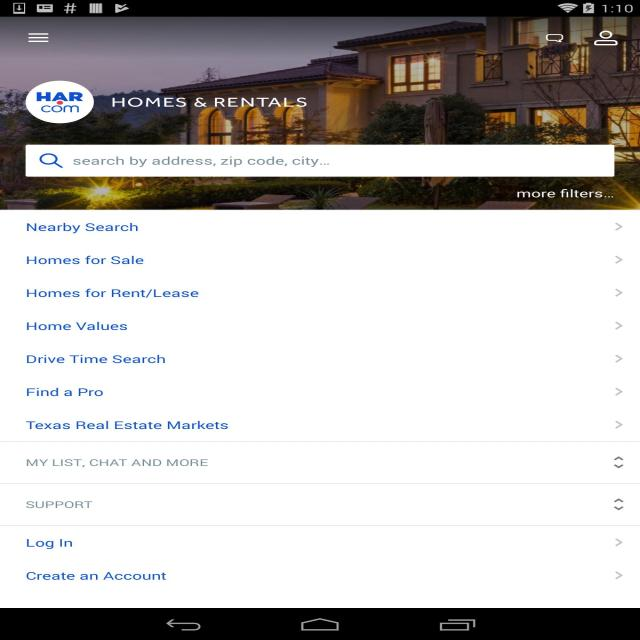button: (584, 26, 630, 49), (539, 28, 571, 48), (36, 150, 66, 170), (22, 31, 52, 46), (608, 415, 630, 434), (609, 284, 632, 301), (608, 219, 629, 237), (608, 317, 630, 333), (610, 533, 628, 552), (608, 382, 628, 399), (608, 252, 628, 268), (610, 454, 627, 472), (610, 568, 630, 583), (610, 351, 628, 367), (610, 497, 628, 513)
field: (26, 143, 613, 175)
heading: (109, 94, 308, 111)
image: (2, 16, 640, 210), (26, 80, 94, 125)
label: (71, 156, 335, 168)
text: (21, 420, 230, 431), (24, 288, 200, 300), (20, 458, 210, 469), (24, 570, 170, 583), (24, 354, 168, 367), (23, 253, 152, 267), (24, 220, 142, 235), (21, 320, 134, 332), (19, 386, 111, 400), (25, 498, 94, 509), (22, 537, 78, 550)
